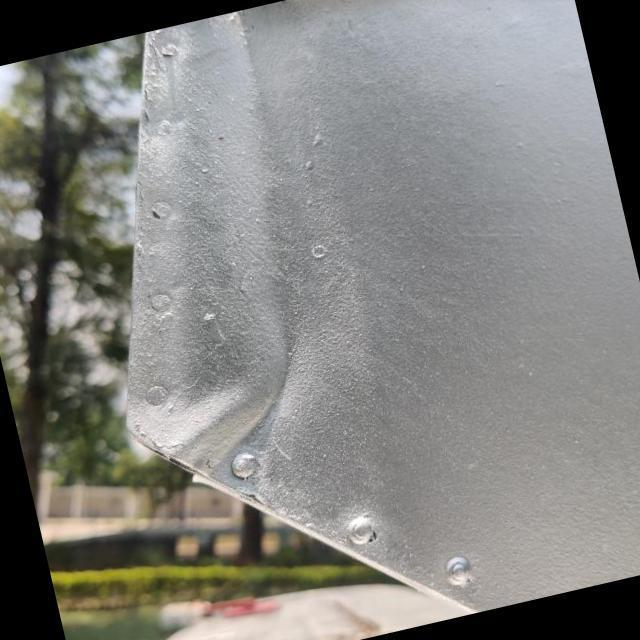Dent: (113, 306, 347, 510)
